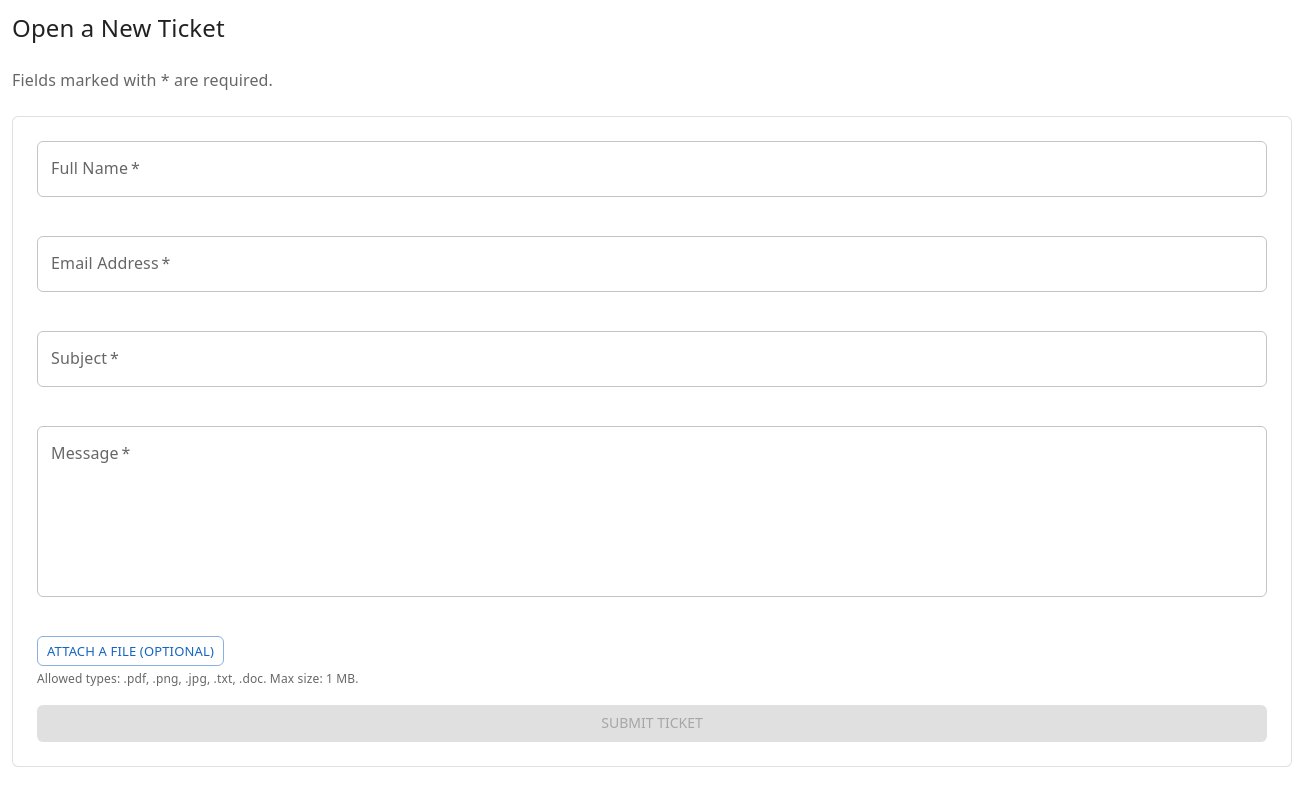
Test: OpenTicketPage › AC-1: shows validation errors for empty required fields / invalid email and gates submit
This screenshot has width=1292, height=812.
Check: the button "Submit Ticket" is disabled, box top-left (37, 705), bottom-right (1267, 742)
Type "nope" into the field labelled "Email Address *".
click(652, 264); type("nope")  # box top-left (37, 236), bottom-right (1267, 292)
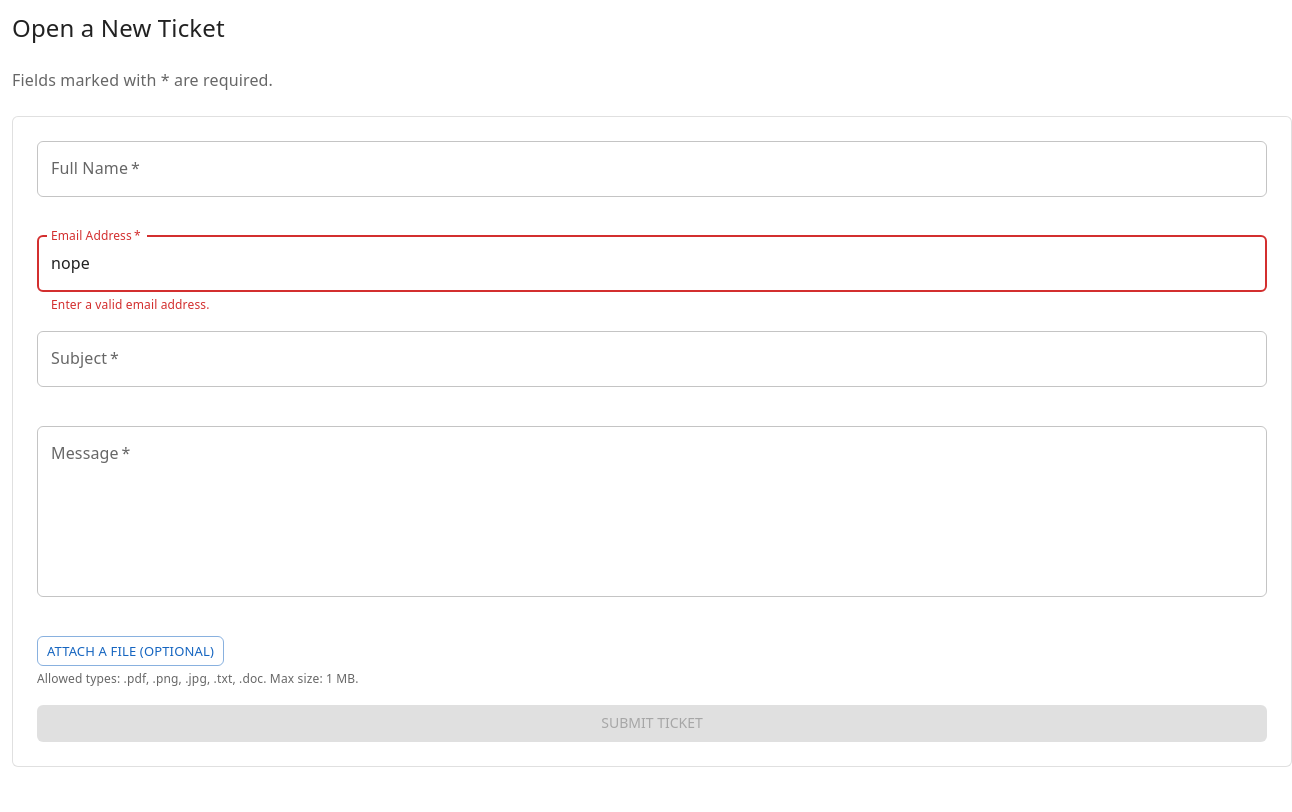
Check: the text "Enter a valid email address." is shown, box top-left (51, 296), bottom-right (210, 313)
Click the field labelled "Subject *".
click(652, 359)  # box top-left (37, 331), bottom-right (1267, 387)
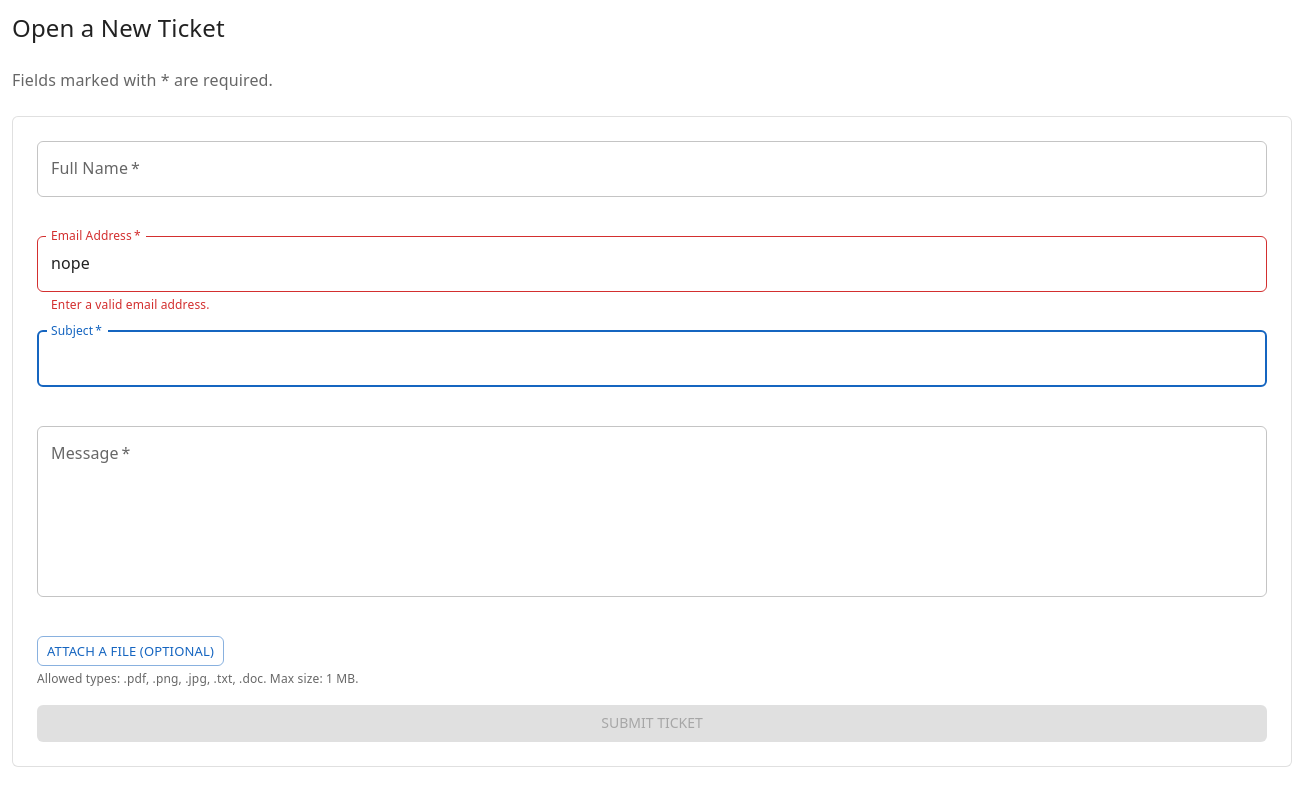
Press Tab
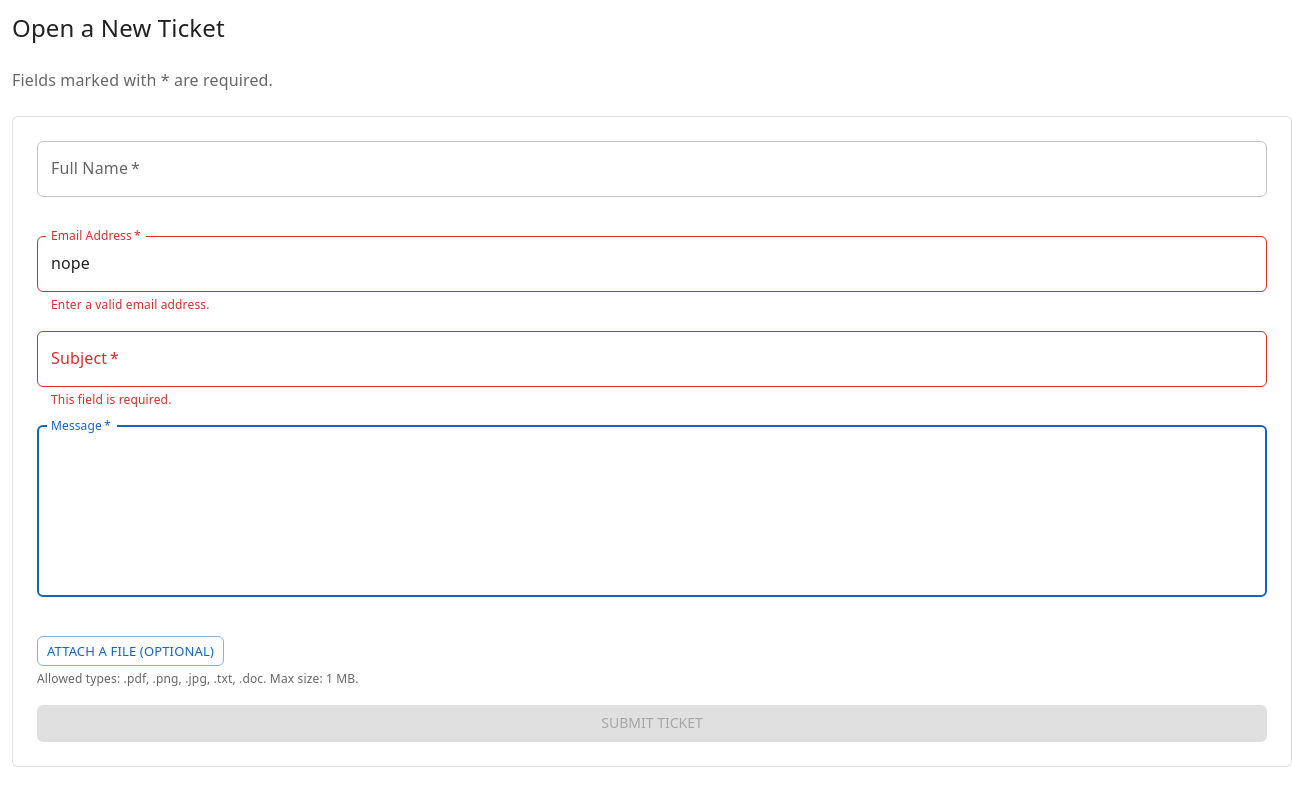
Check: the button "Submit Ticket" is disabled, box top-left (37, 705), bottom-right (1267, 742)
Check: the text "This field is required." is shown, box top-left (51, 391), bottom-right (172, 408)
